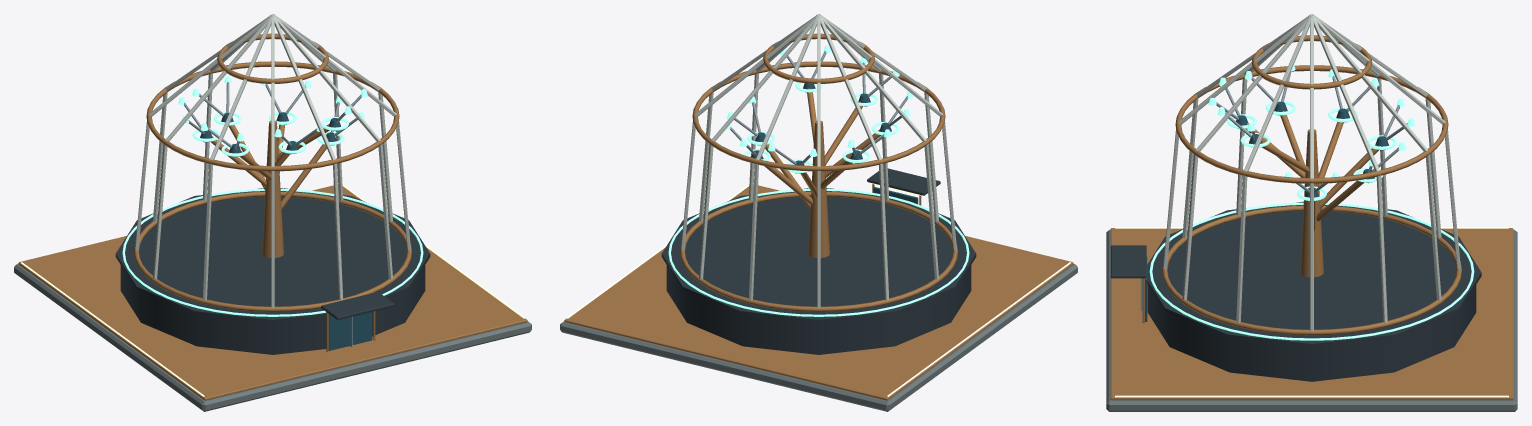
The model's file is knowledge-atrium.lod0.glb.
3 renders of one model, left to right at view 1: azimuth 30°, elevation 25°; view 2: azimuth 150°, elevation 25°; view 3: azimuth 270°, elevation 25°, orthographic. The views are drawn at different scales.
Parts seen in each view (by area): view 1: structure; view 2: structure; view 3: structure.
Part boxes in pixels (left/top/right/bottom): structure: left=14, top=14, right=531, bottom=411; structure: left=560, top=14, right=1077, bottom=411; structure: left=1106, top=14, right=1517, bottom=411.
Size of the model in its own units: 24 by 20.06 by 24.
